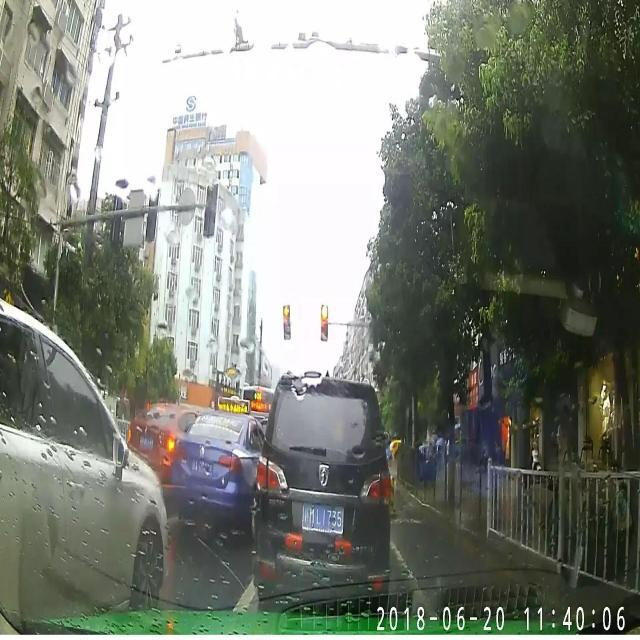car: (0, 296, 171, 622), (250, 369, 392, 612), (164, 400, 271, 528), (123, 402, 206, 484)
